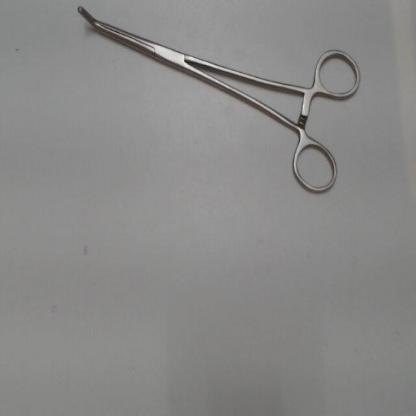Lahey Forceps: (69, 0, 364, 199)
